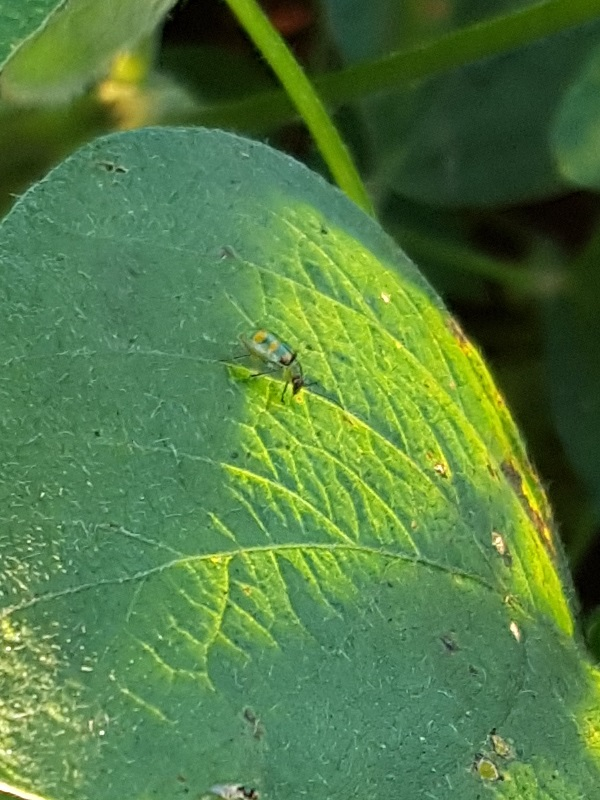Diabrotica_speciosa: (204, 309, 332, 429)
